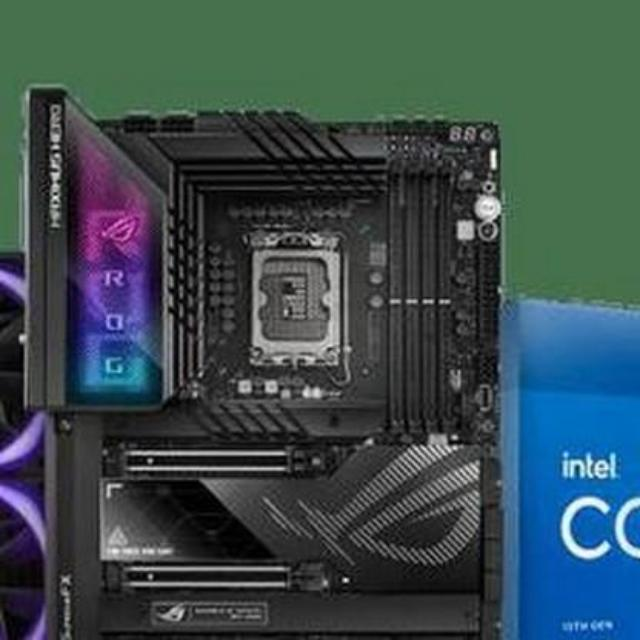Mainboard: (19, 82, 513, 640)
